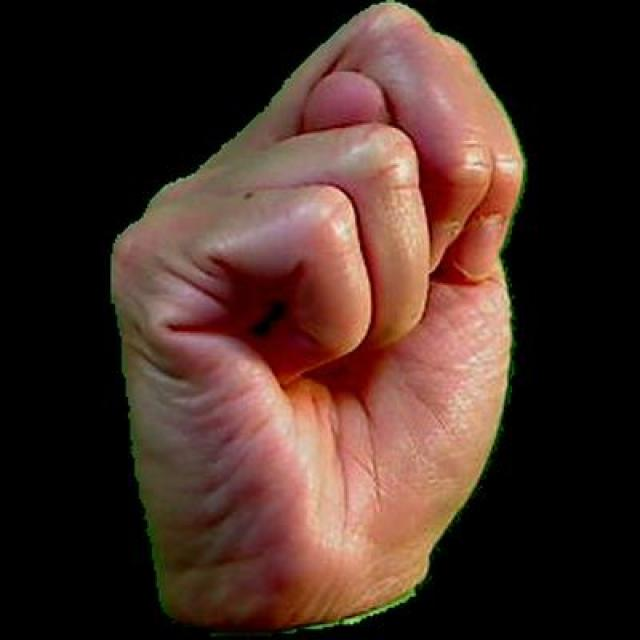n: (99, 0, 536, 637)
